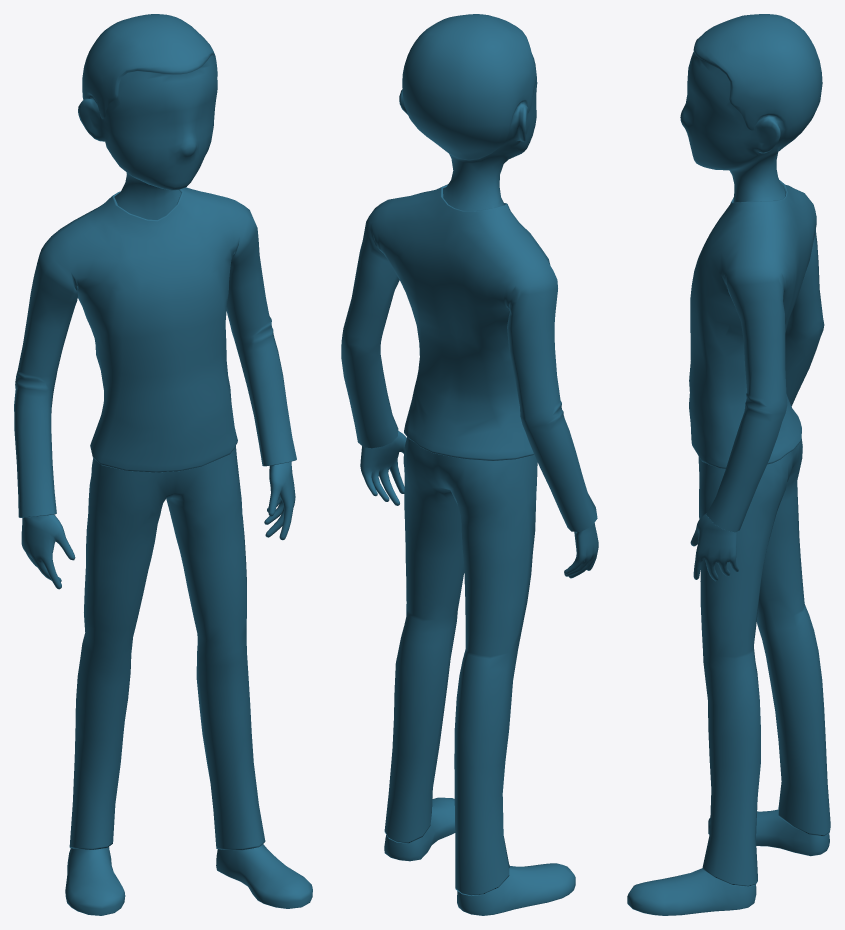
The model's file is human_male.gltf.
3 views of the same model, side by side, from view 1: azimuth 30°, elevation 25°; view 2: azimuth 150°, elevation 25°; view 3: azimuth 270°, elevation 25° (orthographic).
Parts seen in each view (by area): view 1: Node #0; view 2: Node #0; view 3: Node #0.
Boxes of the visible parts, <box> form: Node #0: <box>14,14,312,915</box>; Node #0: <box>341,14,598,915</box>; Node #0: <box>627,14,830,915</box>.
Size of the model in its own units: 0.1916 by 0.6172 by 0.1352.
1 material, 1 textured.
